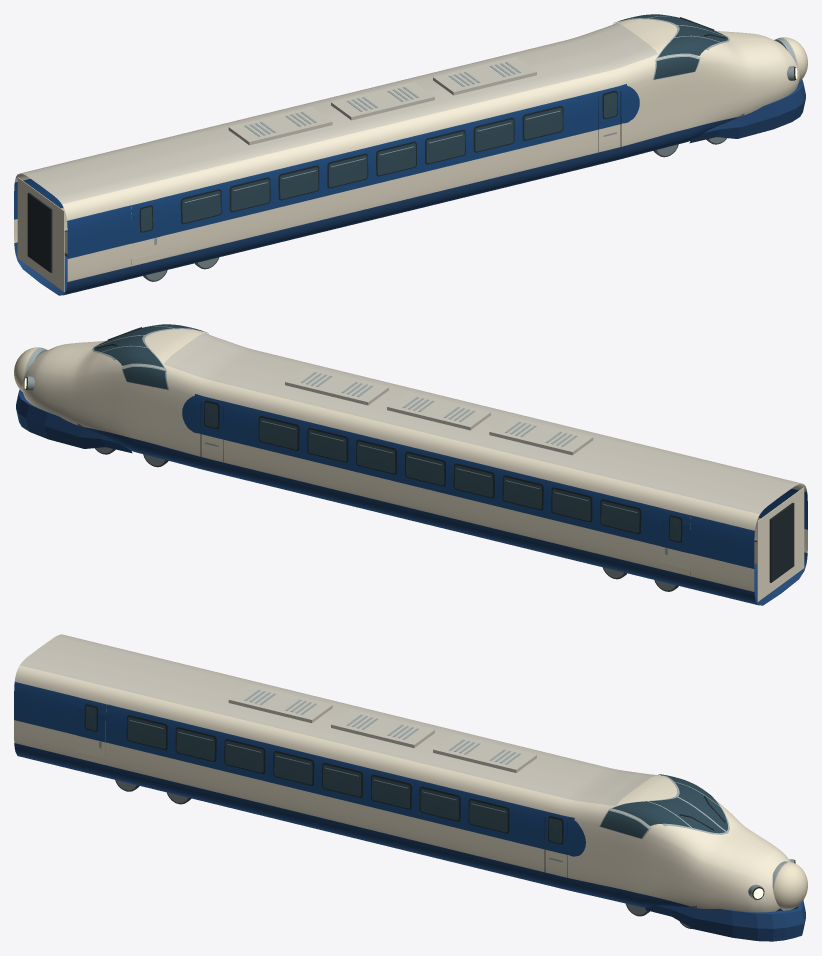
The model's file is express-retro-cab.glb.
3 renders of one model, top to bottom at view 1: azimuth 30°, elevation 25°; view 2: azimuth 150°, elevation 25°; view 3: azimuth 330°, elevation 25°, orthographic.
Parts seen in each view (by area): view 1: body, door_right_rear; view 2: body, door_left_rear; view 3: body, door_right_rear.
Boxes of the visible parts, <box> form: body: <box>14,14,807,295</box>; door_right_rear: <box>131,198,159,264</box>; body: <box>14,324,807,605</box>; door_left_rear: <box>662,508,690,574</box>; body: <box>14,634,807,941</box>; door_right_rear: <box>78,697,106,763</box>.
Bounding box in the file's own units: 26.96 × 3.9 × 3.39.
